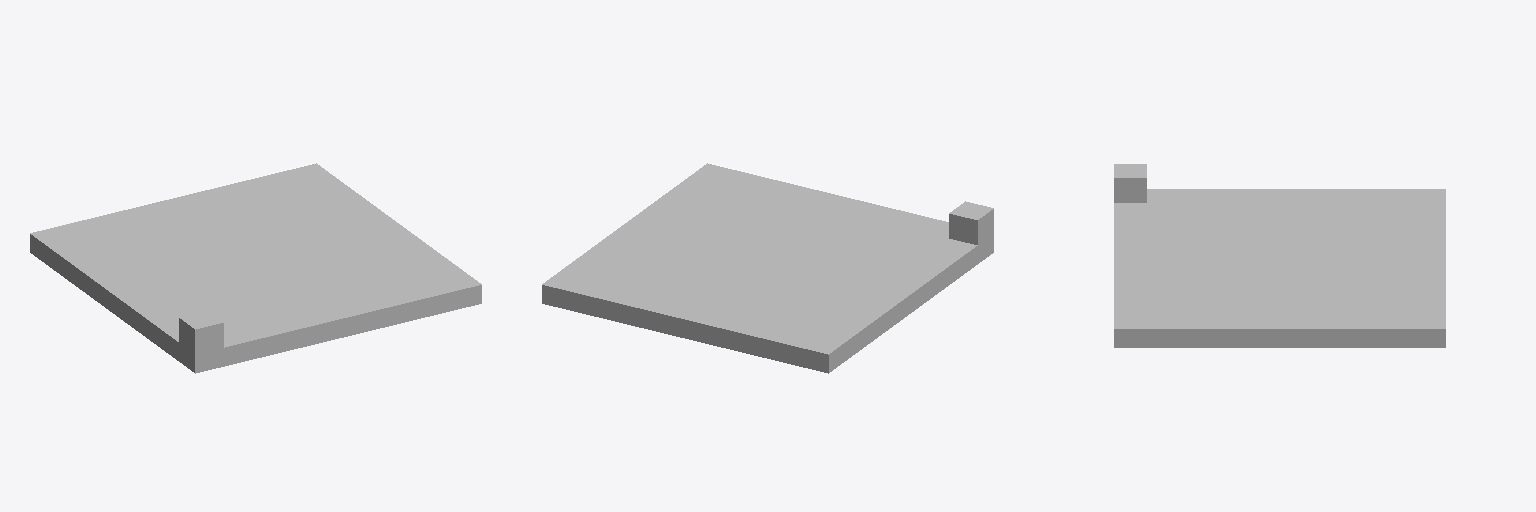
The model's file is Inner_corner_01.obj.
The picture shows the model from 3 angles: view 1: azimuth 30°, elevation 25°; view 2: azimuth 150°, elevation 25°; view 3: azimuth 270°, elevation 25°; orthographic projection.
Visible parts, largest first — view 1: Mesh1 Inner_corner Model; view 2: Mesh1 Inner_corner Model; view 3: Mesh1 Inner_corner Model.
Boxes of the visible parts, box(x1,y1,x2,y2) form: Mesh1 Inner_corner Model: box(30, 163, 481, 373); Mesh1 Inner_corner Model: box(542, 163, 993, 373); Mesh1 Inner_corner Model: box(1114, 164, 1445, 347).
Size of the model in its own units: 3 by 0.44 by 3.